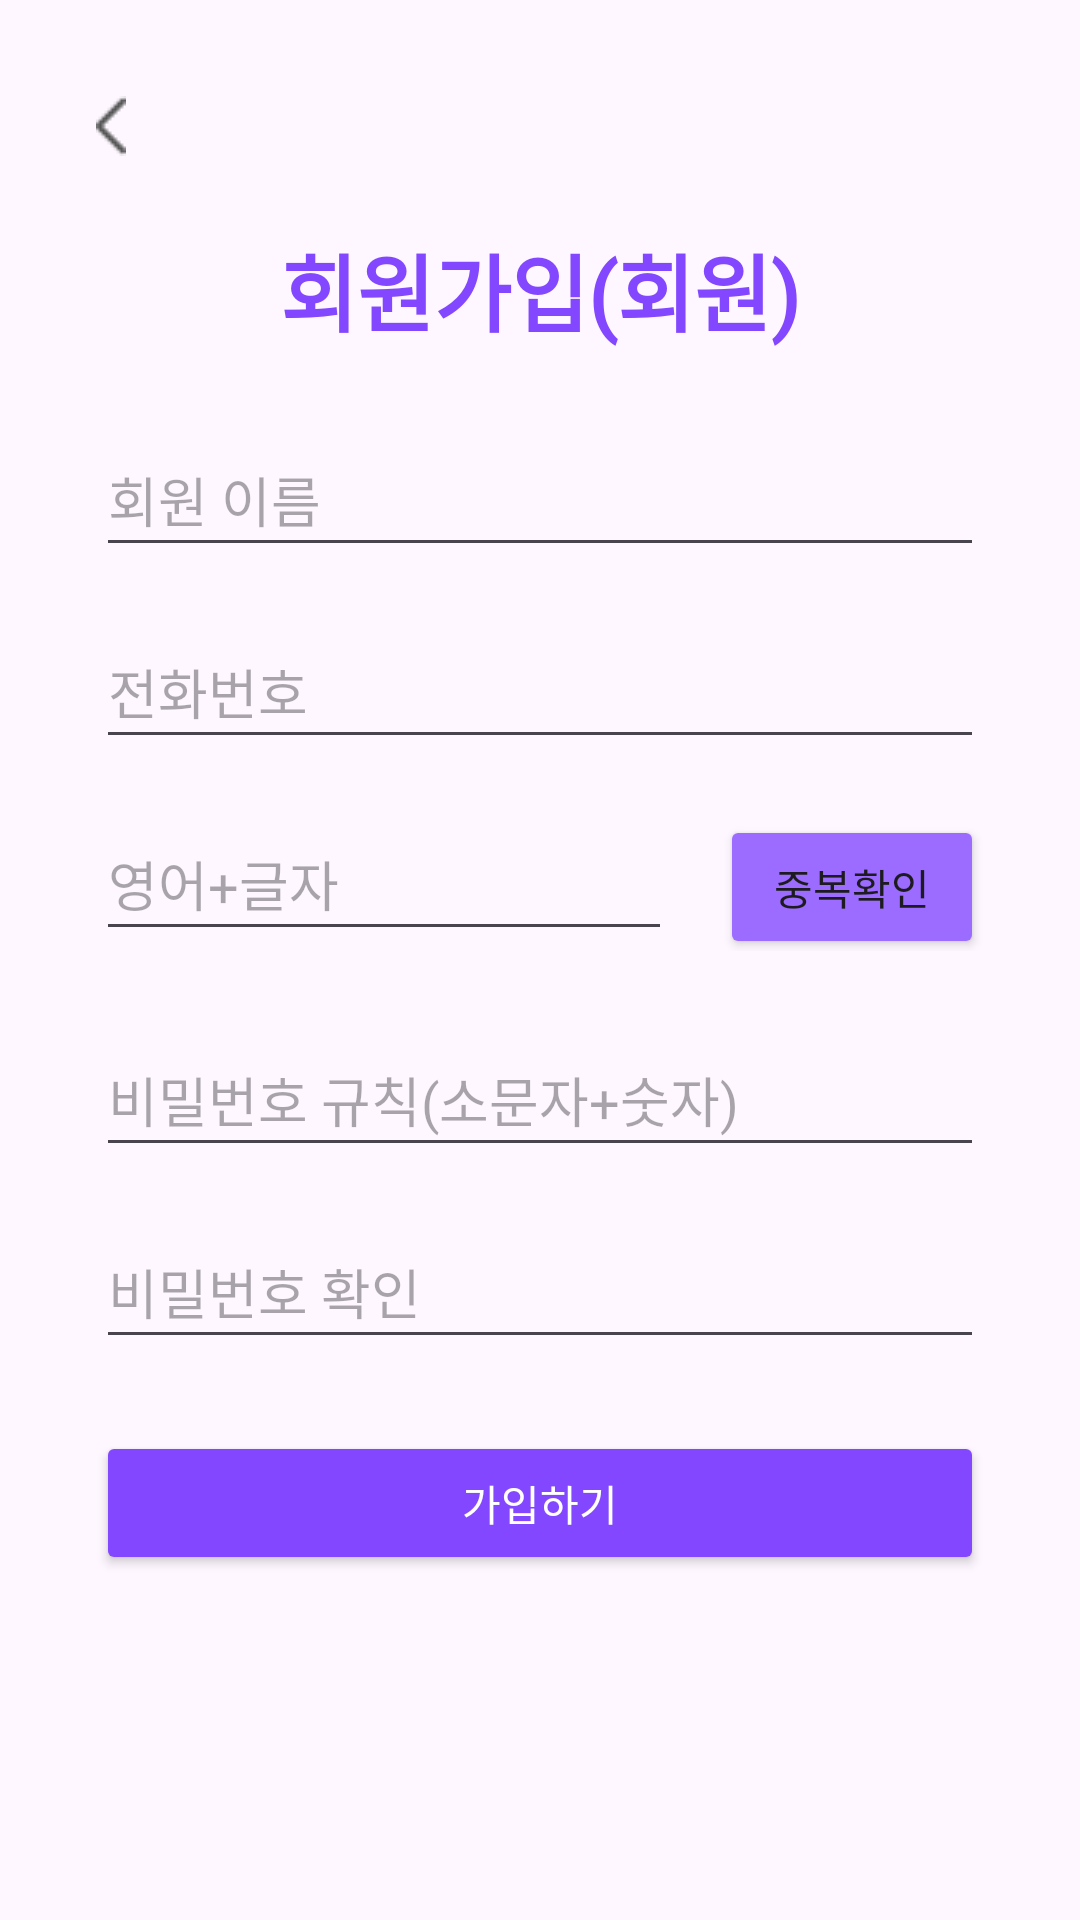

Icon click points for this 1080px×1920px phone screenshot, format (x,y):
뒤로가기: (111,126)
